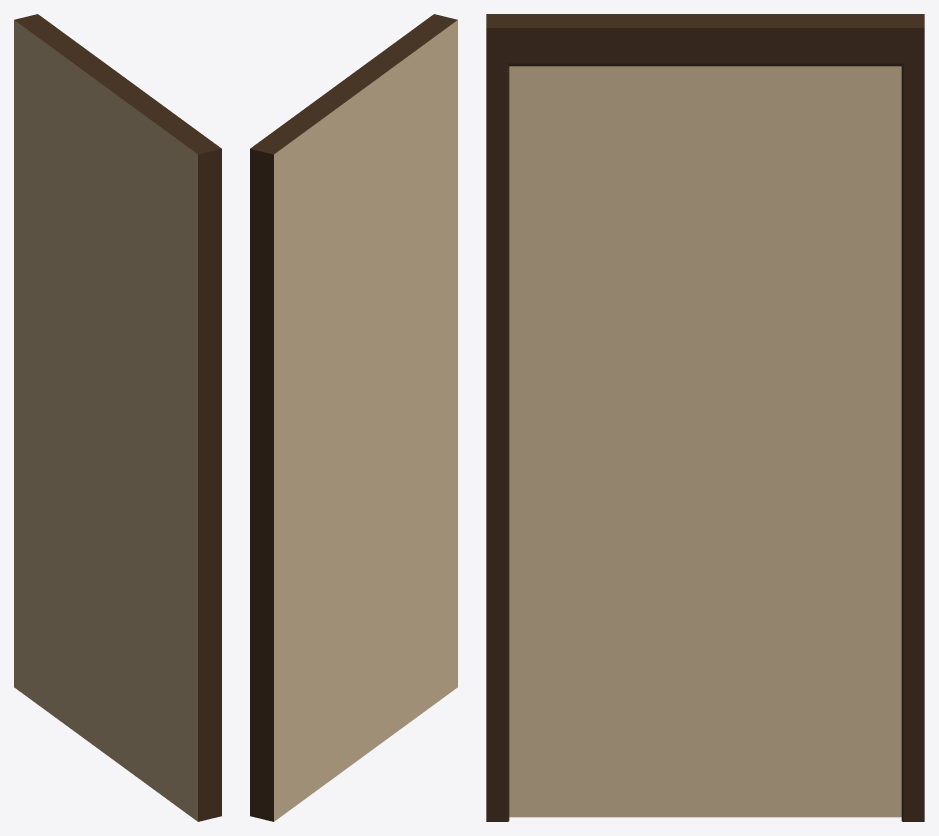
File: Wall_Library.fbx
3 renders of one model, left to right at view 1: azimuth 30°, elevation 25°; view 2: azimuth 150°, elevation 25°; view 3: azimuth 270°, elevation 25°, orthographic. The views are drawn at different scales.
Parts seen in each view (by area): view 1: Cube; view 2: Cube; view 3: Cube.
Part boxes in pixels (box(x1,y1,x2,y2)): Cube: box(14, 14, 221, 821); Cube: box(250, 14, 457, 821); Cube: box(486, 14, 924, 821).
Bounding box in the file's own units: 14.98 × 400 × 200.
